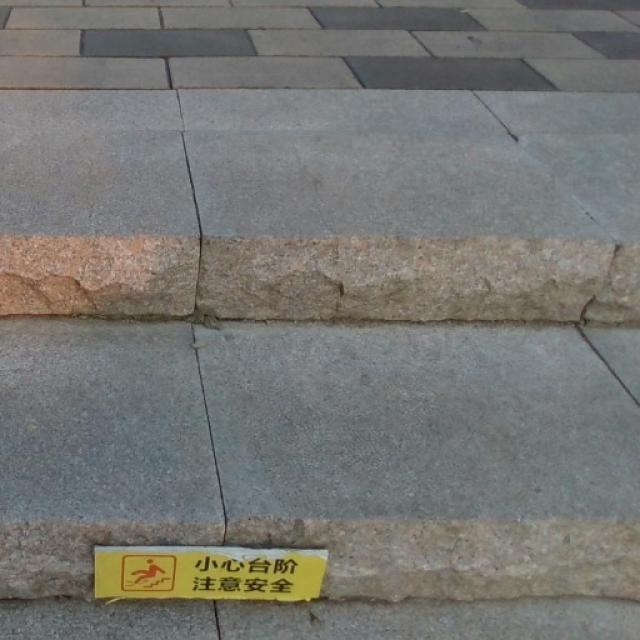Stairs: (0, 88, 639, 640)
